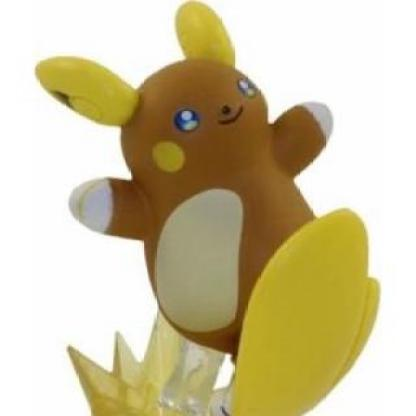Raichu: (1, 10, 416, 416)
